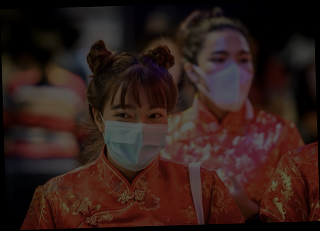with_mask: (100, 94, 168, 172), (196, 43, 257, 113)
